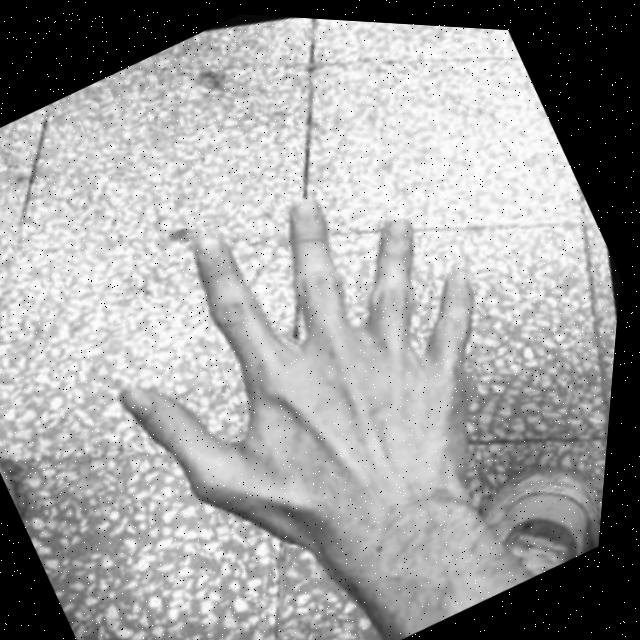hand: (55, 108, 562, 587)
